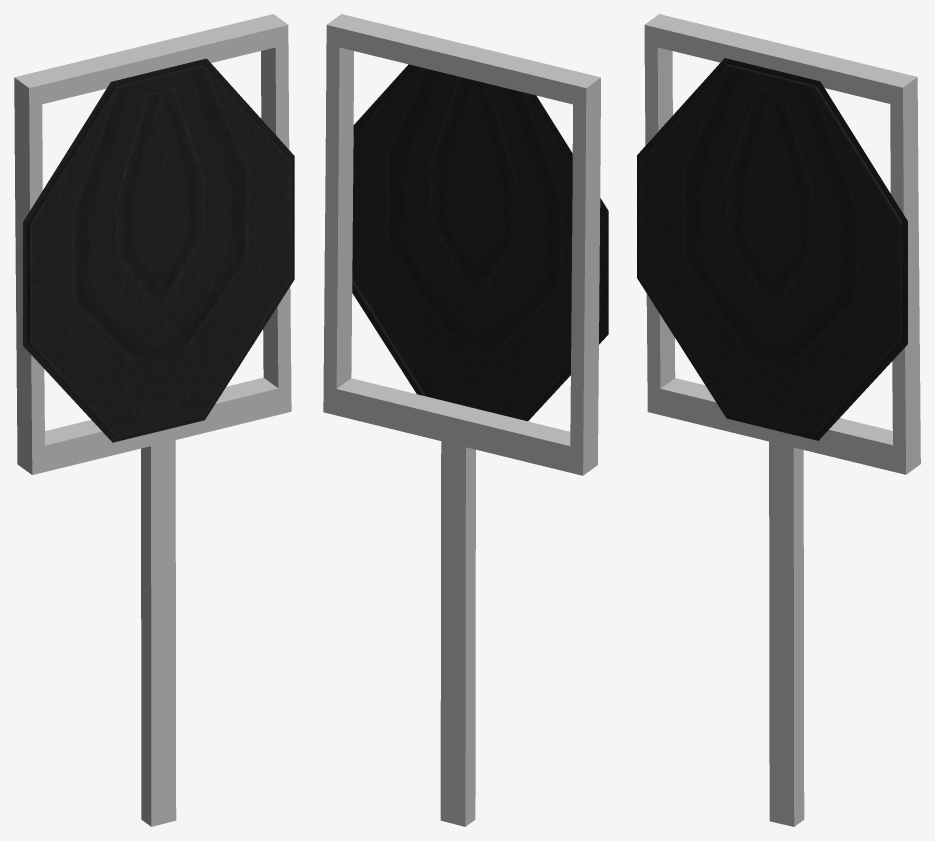
The model's file is IPSC 纸靶-黑色02.FBX.
3 views of the same model, side by side, from view 1: azimuth 30°, elevation 25°; view 2: azimuth 150°, elevation 25°; view 3: azimuth 330°, elevation 25° (orthographic).
Visible parts, largest first — view 1: Object76, Box03SS18; view 2: Object76, Box03SS18; view 3: Object76, Box03SS18.
Part boxes in pixels (bbox=[...]): Object76: bbox=[23, 58, 294, 442]; Box03SS18: bbox=[14, 14, 291, 826]; Object76: bbox=[352, 64, 608, 421]; Box03SS18: bbox=[323, 14, 600, 826]; Object76: bbox=[637, 58, 907, 440]; Box03SS18: bbox=[644, 14, 920, 826].
Size of the model in its own units: 10.38 by 1.14 by 28.1.
